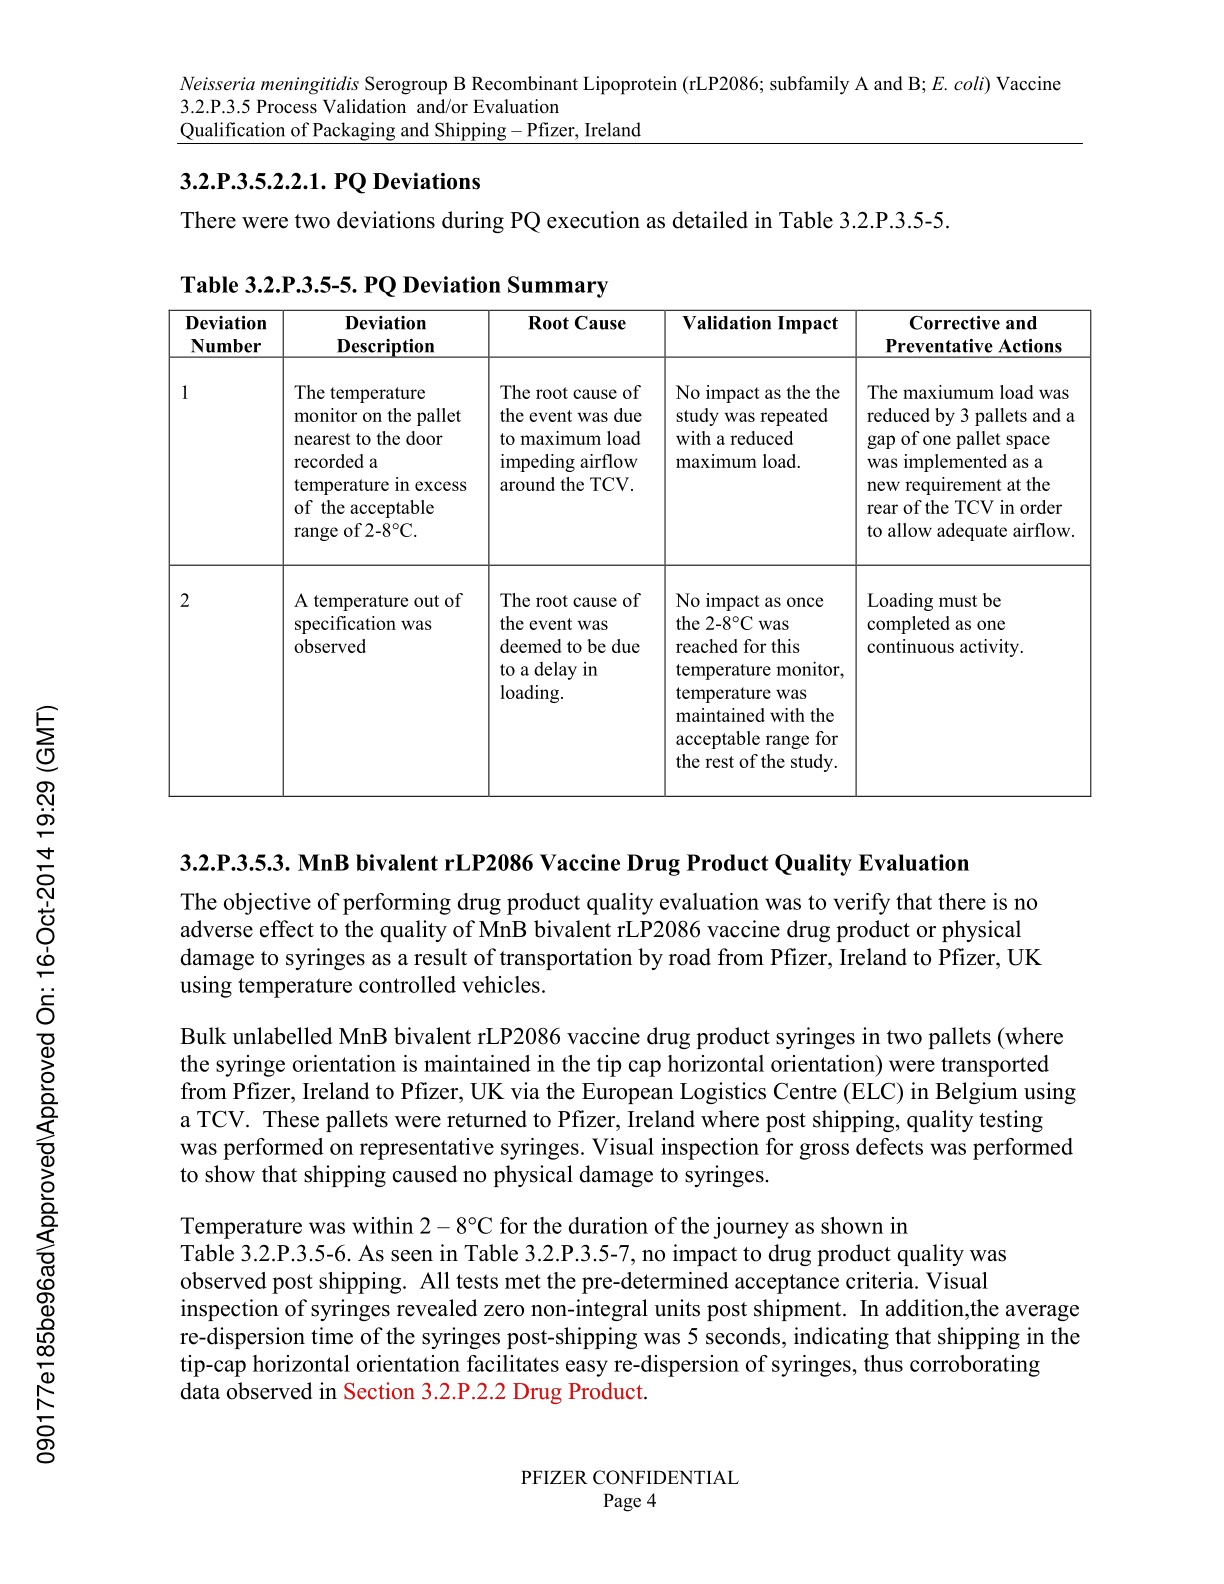full_lined: (167, 309, 1092, 798)
